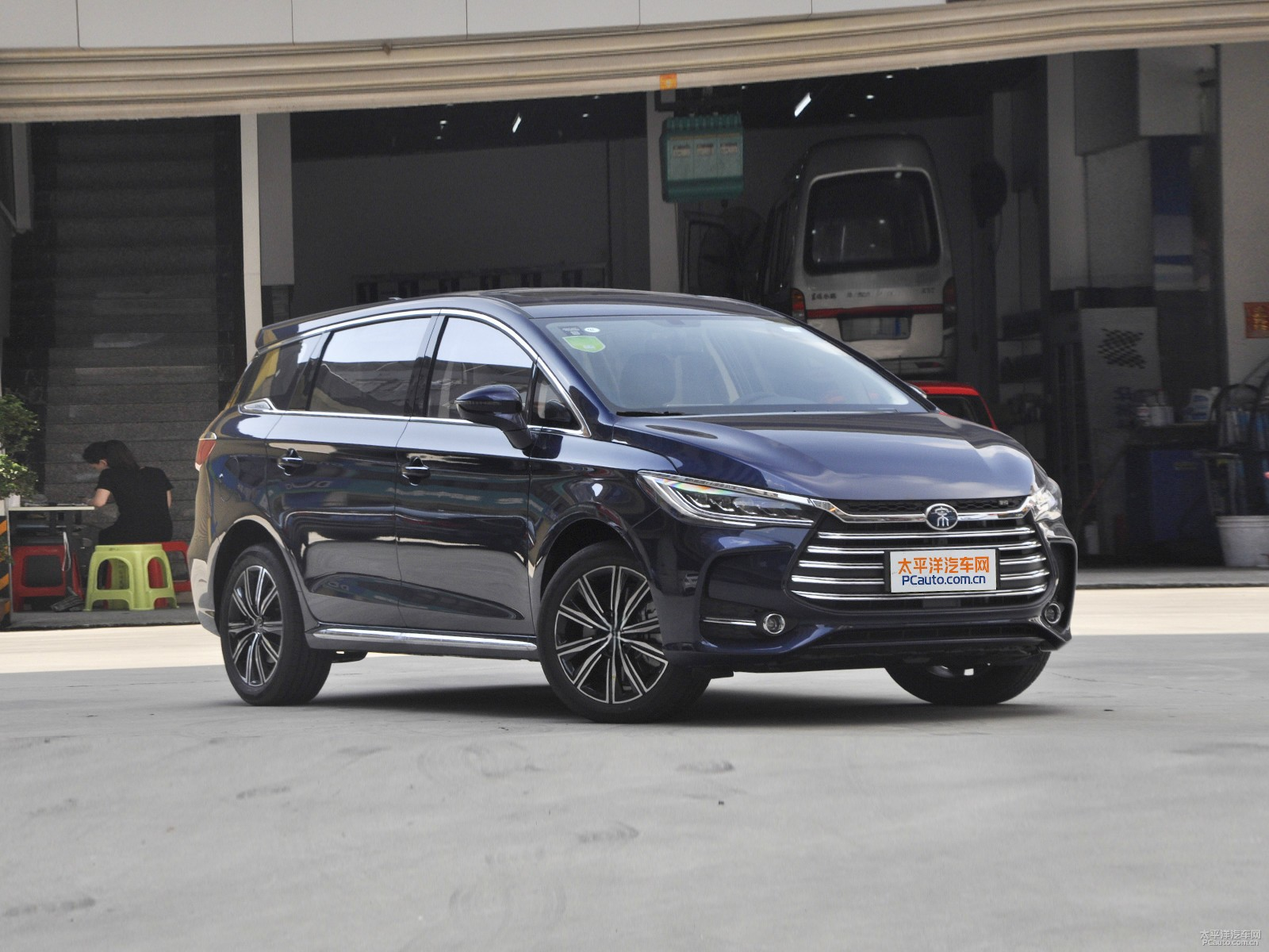BYD Song: (927, 504, 958, 529)
